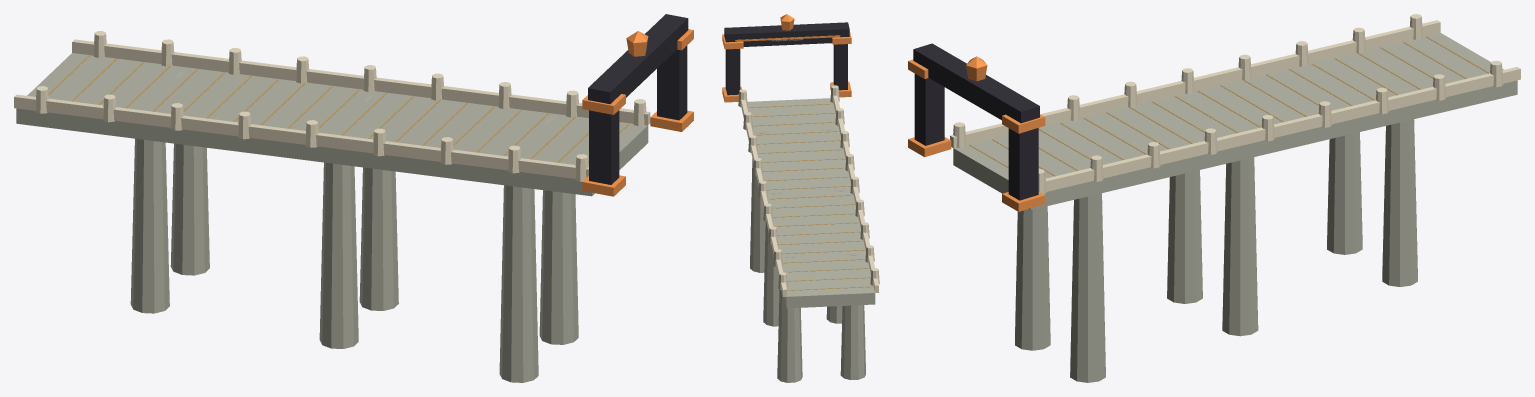
The model's file is Branch_InfernalCaldera.glb.
3 views of the same model, side by side, from view 1: azimuth 30°, elevation 25°; view 2: azimuth 150°, elevation 25°; view 3: azimuth 270°, elevation 25° (orthographic). The views are drawn at different scales.
Visible parts, largest first — view 1: Branch_InfernalCaldera_Sanctuary limestone_1_-2, Branch_InfernalCaldera_Warm ivory_1_-2, Branch_InfernalCaldera_Sanctuary limestone_1_-3, Branch_InfernalCaldera_InfernalCaldera_dark_1_-3, Branch_InfernalCaldera_InfernalCaldera_accent_1_-3, Branch_InfernalCaldera_Aged gold_1_-2, Branch_InfernalCaldera_Warm ivory_1_-3, Branch_InfernalCaldera_Warm ivory_0_-2, Branch_InfernalCaldera_Aged gold_1_-3; view 2: Branch_InfernalCaldera_Sanctuary limestone_1_-2, Branch_InfernalCaldera_InfernalCaldera_dark_1_-3, Branch_InfernalCaldera_Warm ivory_1_-2, Branch_InfernalCaldera_Aged gold_1_-2, Branch_InfernalCaldera_Sanctuary limestone_1_-3, Branch_InfernalCaldera_InfernalCaldera_accent_1_-3, Branch_InfernalCaldera_Warm ivory_1_-3, Branch_InfernalCaldera_Aged gold_1_-3, Branch_InfernalCaldera_Warm ivory_0_-2; view 3: Branch_InfernalCaldera_Sanctuary limestone_1_-2, Branch_InfernalCaldera_Warm ivory_1_-2, Branch_InfernalCaldera_Sanctuary limestone_1_-3, Branch_InfernalCaldera_InfernalCaldera_dark_1_-3, Branch_InfernalCaldera_InfernalCaldera_accent_1_-3, Branch_InfernalCaldera_Aged gold_1_-2, Branch_InfernalCaldera_Warm ivory_1_-3, Branch_InfernalCaldera_Aged gold_1_-3, Branch_InfernalCaldera_Warm ivory_0_-2.
Boxes of the visible parts, bbox=[...] form: Branch_InfernalCaldera_Sanctuary limestone_1_-2: bbox=[16, 53, 648, 348]; Branch_InfernalCaldera_Warm ivory_1_-2: bbox=[14, 31, 650, 178]; Branch_InfernalCaldera_Sanctuary limestone_1_-3: bbox=[499, 117, 578, 382]; Branch_InfernalCaldera_InfernalCaldera_dark_1_-3: bbox=[588, 14, 688, 184]; Branch_InfernalCaldera_InfernalCaldera_accent_1_-3: bbox=[582, 29, 693, 196]; Branch_InfernalCaldera_Aged gold_1_-2: bbox=[71, 59, 467, 145]; Branch_InfernalCaldera_Warm ivory_1_-3: bbox=[440, 90, 646, 181]; Branch_InfernalCaldera_Warm ivory_0_-2: bbox=[35, 86, 115, 122]; Branch_InfernalCaldera_Aged gold_1_-3: bbox=[453, 106, 629, 162]; Branch_InfernalCaldera_Sanctuary limestone_1_-2: bbox=[747, 98, 875, 382]; Branch_InfernalCaldera_InfernalCaldera_dark_1_-3: bbox=[724, 22, 849, 95]; Branch_InfernalCaldera_Warm ivory_1_-2: bbox=[741, 95, 878, 296]; Branch_InfernalCaldera_Aged gold_1_-2: bbox=[762, 158, 870, 281]; Branch_InfernalCaldera_Sanctuary limestone_1_-3: bbox=[750, 128, 832, 272]; Branch_InfernalCaldera_InfernalCaldera_accent_1_-3: bbox=[722, 14, 851, 102]; Branch_InfernalCaldera_Warm ivory_1_-3: bbox=[738, 38, 849, 148]; Branch_InfernalCaldera_Aged gold_1_-3: bbox=[747, 103, 842, 153]; Branch_InfernalCaldera_Warm ivory_0_-2: bbox=[865, 245, 879, 285]; Branch_InfernalCaldera_Sanctuary limestone_1_-2: bbox=[953, 33, 1517, 336]; Branch_InfernalCaldera_Warm ivory_1_-2: bbox=[950, 20, 1520, 191]; Branch_InfernalCaldera_Sanctuary limestone_1_-3: bbox=[1015, 133, 1105, 382]; Branch_InfernalCaldera_InfernalCaldera_dark_1_-3: bbox=[913, 43, 1039, 200]; Branch_InfernalCaldera_InfernalCaldera_accent_1_-3: bbox=[908, 56, 1045, 211]; Branch_InfernalCaldera_Aged gold_1_-2: bbox=[1106, 42, 1466, 149]; Branch_InfernalCaldera_Warm ivory_1_-3: bbox=[953, 95, 1103, 194]; Branch_InfernalCaldera_Aged gold_1_-3: bbox=[969, 117, 1147, 176]; Branch_InfernalCaldera_Warm ivory_0_-2: bbox=[1352, 14, 1422, 53].
Bounding box in the file's own units: 108 × 77 × 130.
